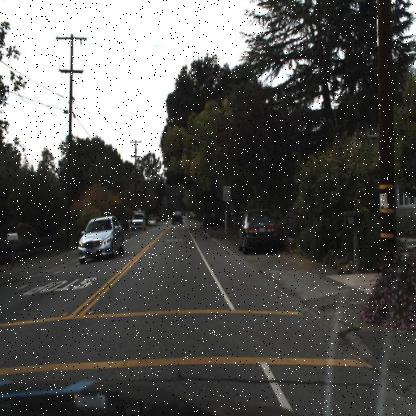car: (75, 215, 126, 265), (236, 206, 281, 254), (128, 209, 147, 234), (201, 210, 217, 230), (170, 209, 185, 228)
